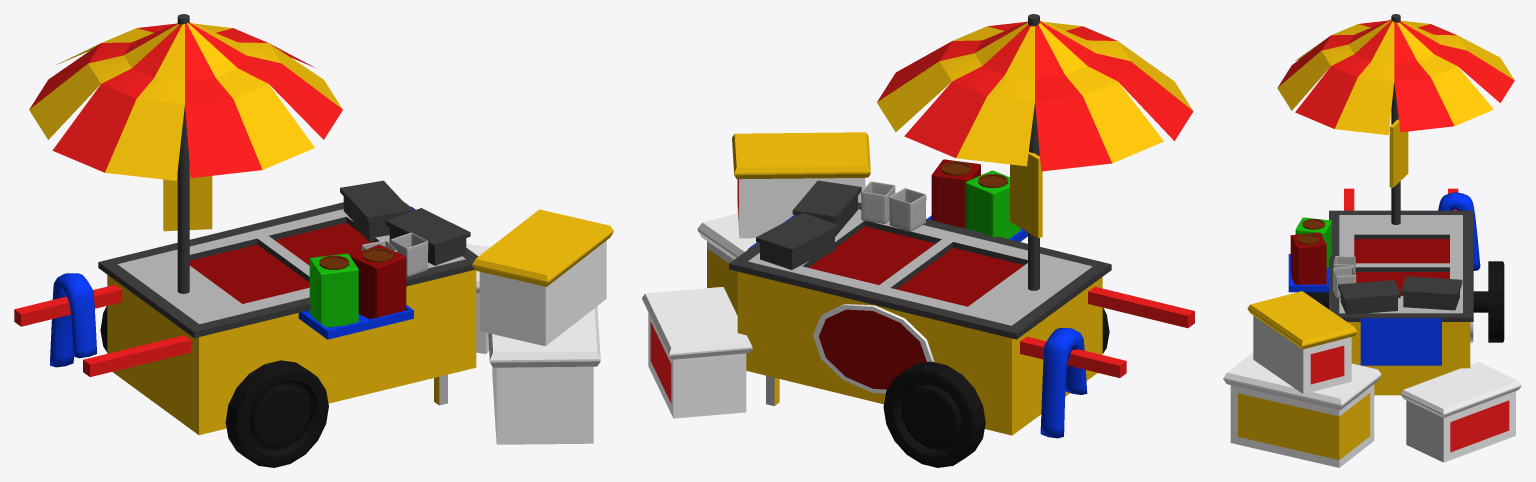
Rendered from Ice_Cream_Cart.FBX.
The picture shows the model from 3 angles, left to right: view 1: azimuth 30°, elevation 25°; view 2: azimuth 150°, elevation 25°; view 3: azimuth 270°, elevation 25°; orthographic projection. The views are drawn at different scales.
Parts seen in each view (by area): view 1: Ice_Cream_Cart; view 2: Ice_Cream_Cart; view 3: Ice_Cream_Cart.
Part boxes in pixels (x1,y1,x2,y2): Ice_Cream_Cart: [14, 14, 613, 467]; Ice_Cream_Cart: [642, 14, 1194, 467]; Ice_Cream_Cart: [1223, 14, 1521, 467].
Bounding box in the file's own units: 293 × 229 × 196.
